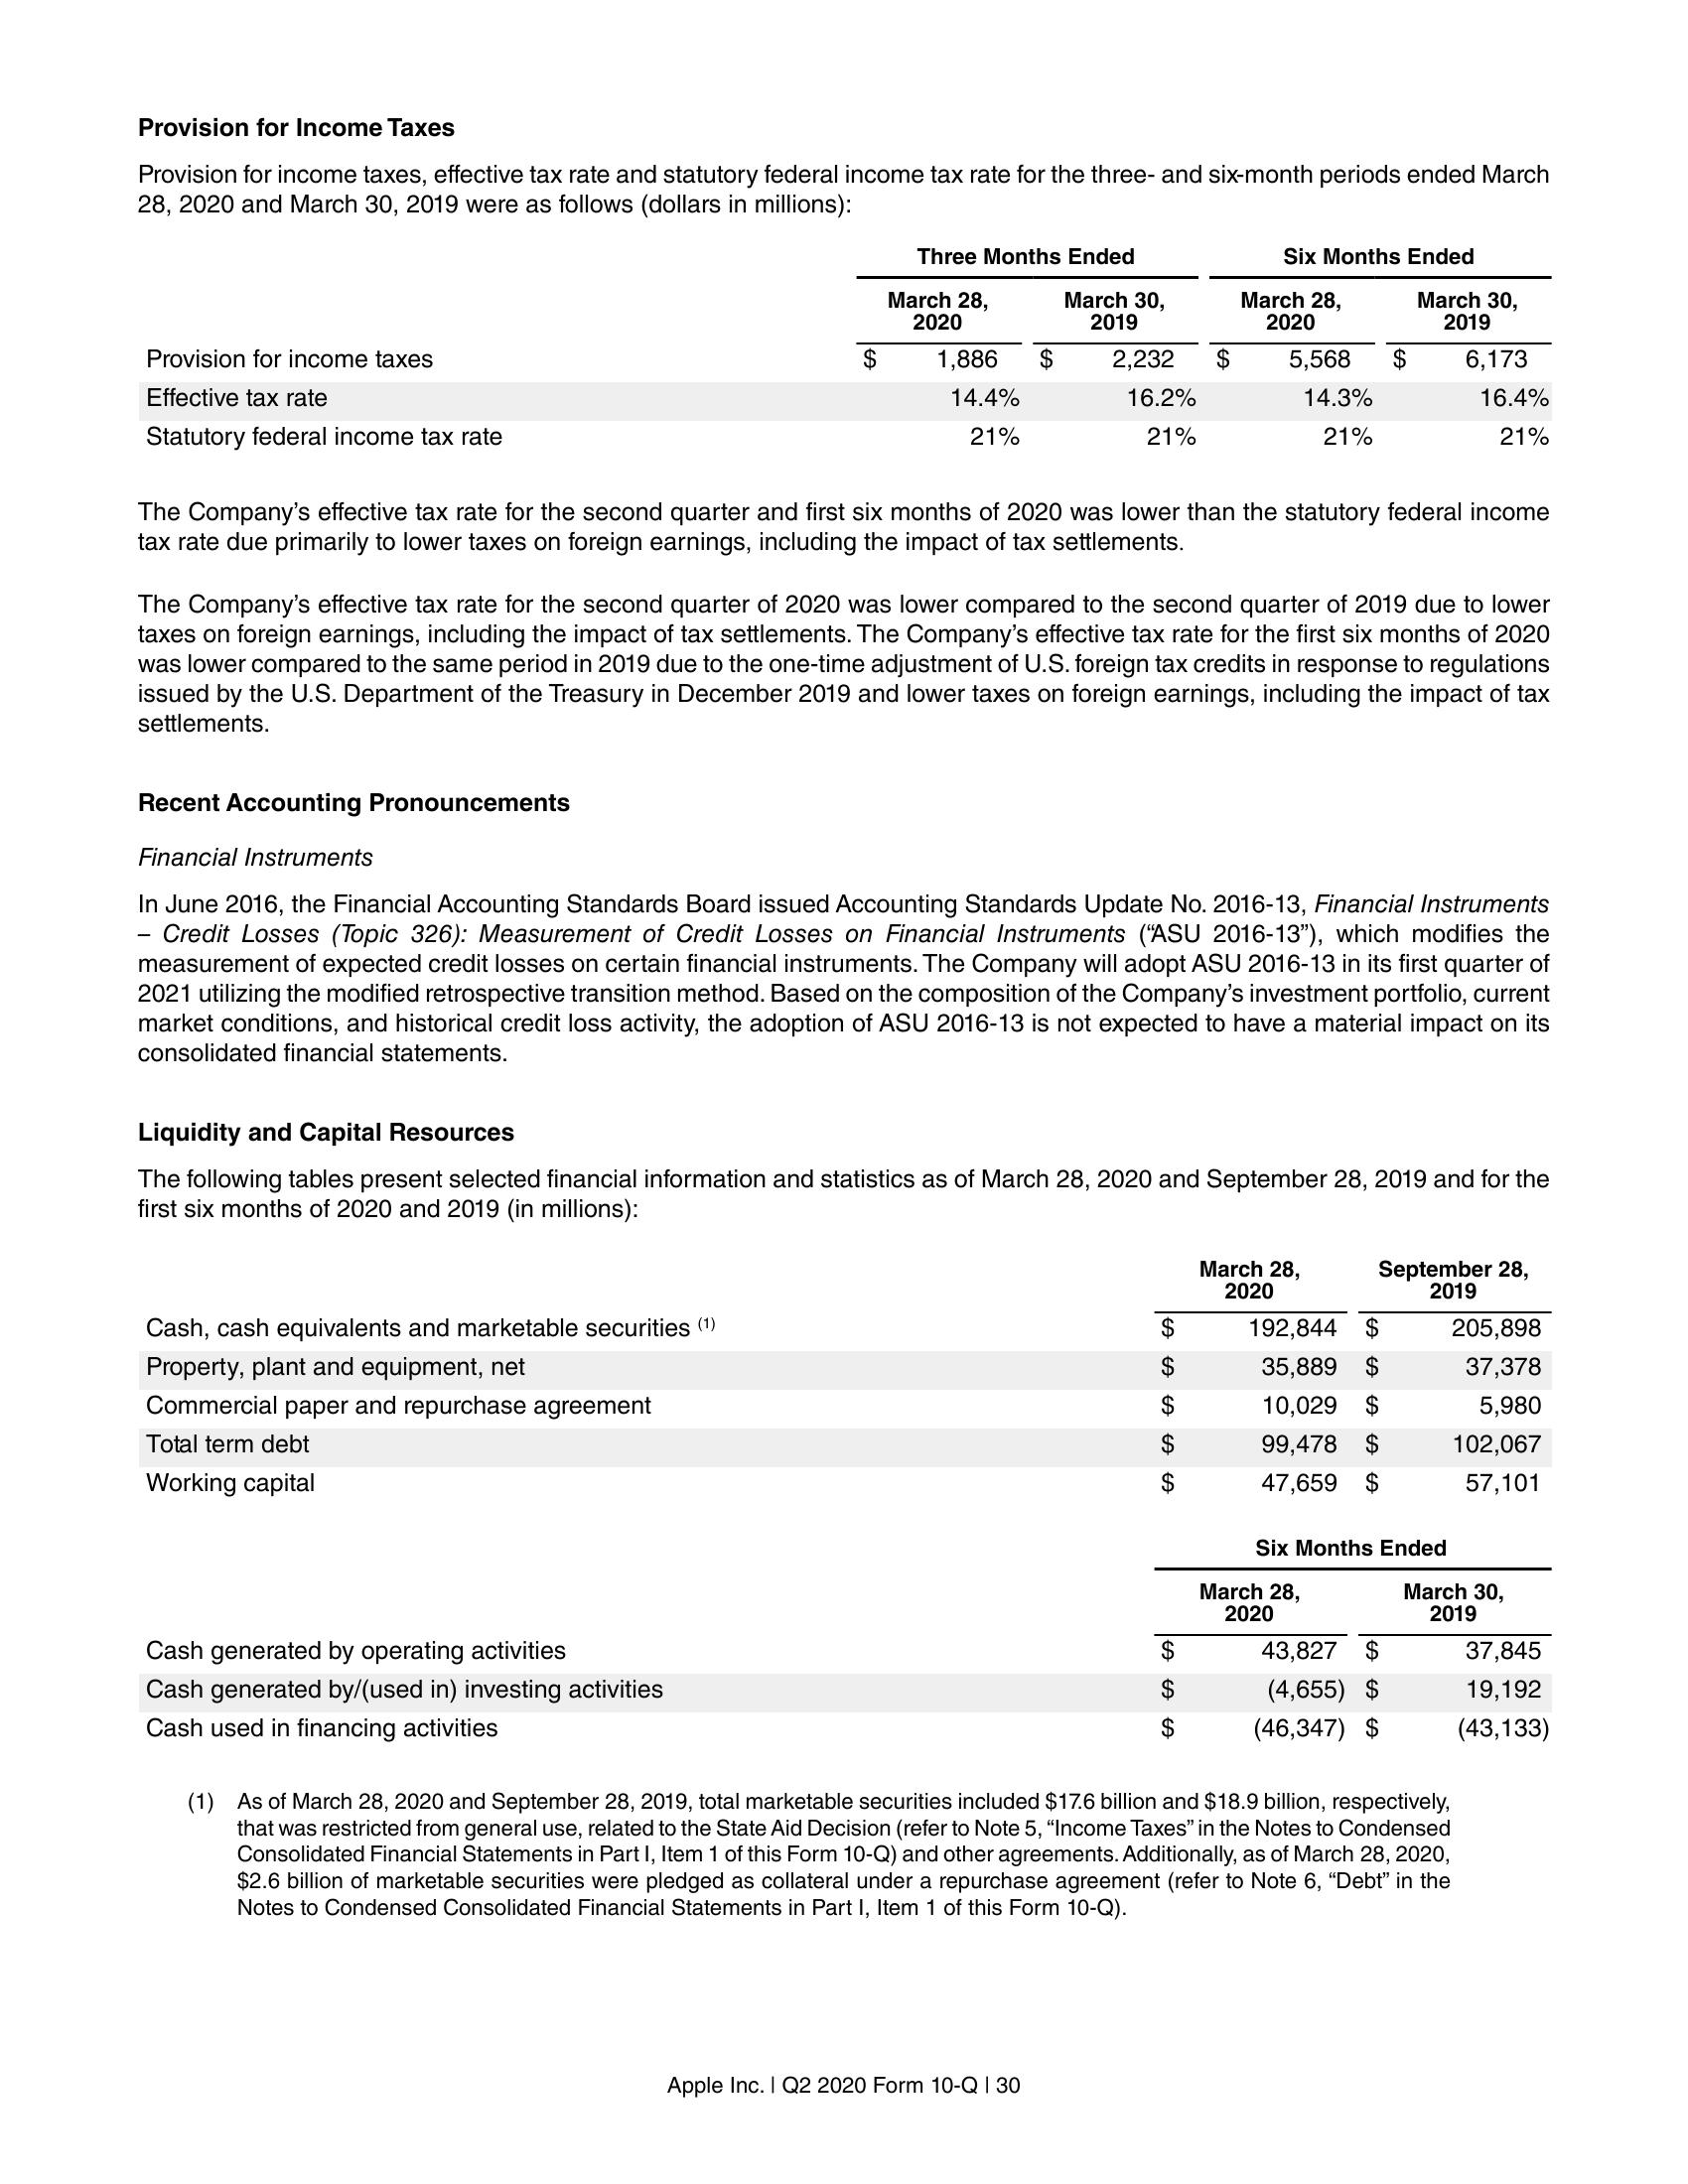table: (144, 1250, 1551, 1750), (131, 239, 1559, 461)
